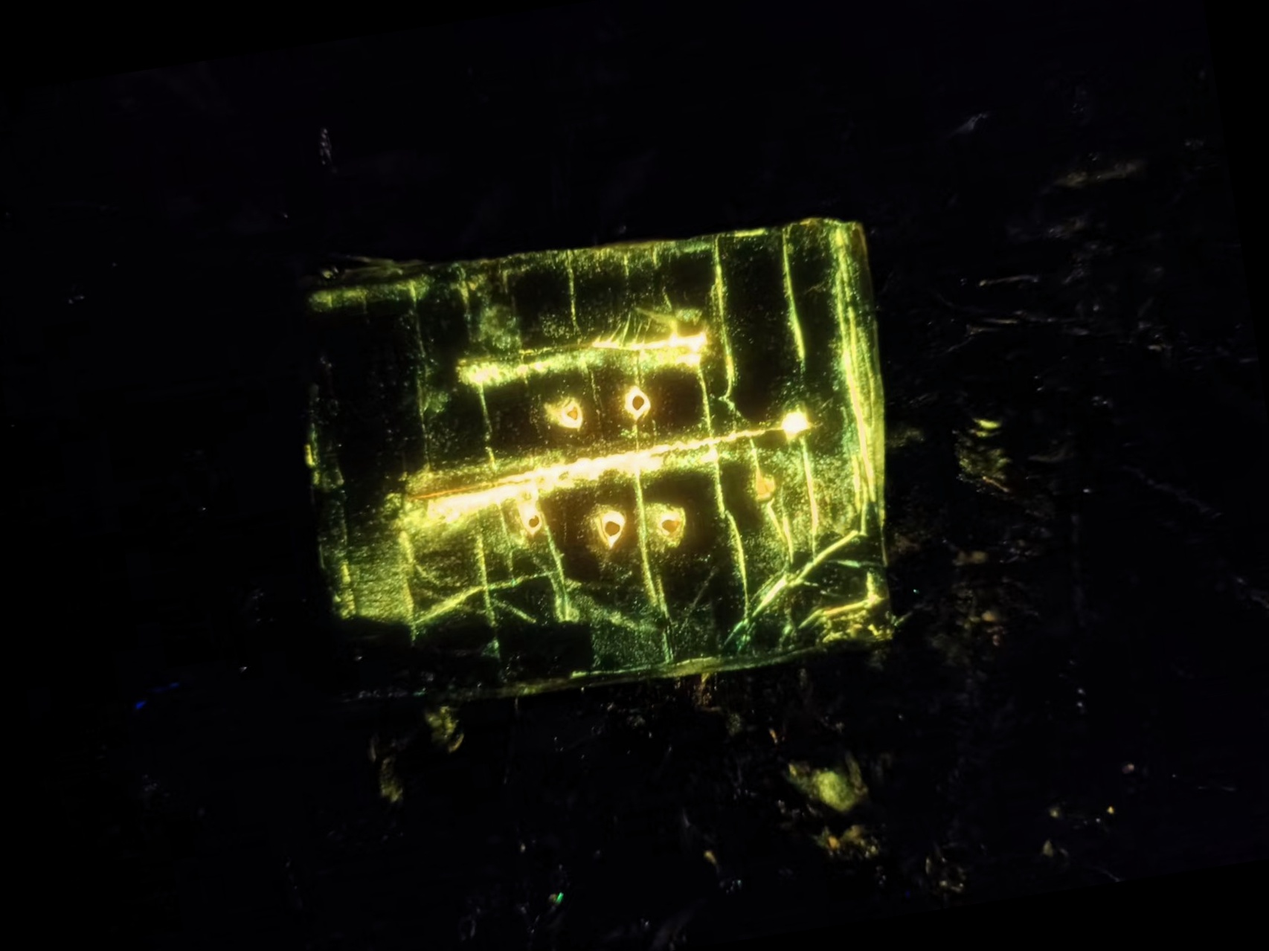Crater: (524, 370, 607, 442), (641, 486, 709, 558), (573, 492, 639, 560), (508, 497, 567, 555), (613, 371, 669, 430)
Fissure: (376, 389, 831, 532), (436, 291, 747, 411)
